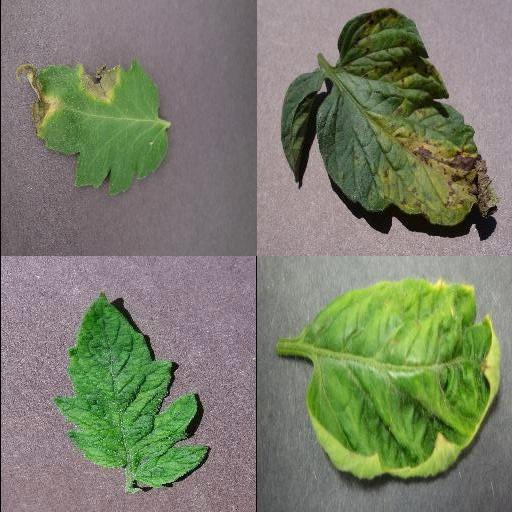Late Blight: (13, 60, 167, 196)
Mosaic Virus: (53, 293, 209, 487)
Septoria: (315, 8, 499, 224)
Yellow Leaf Curl Virus: (303, 275, 501, 483)
